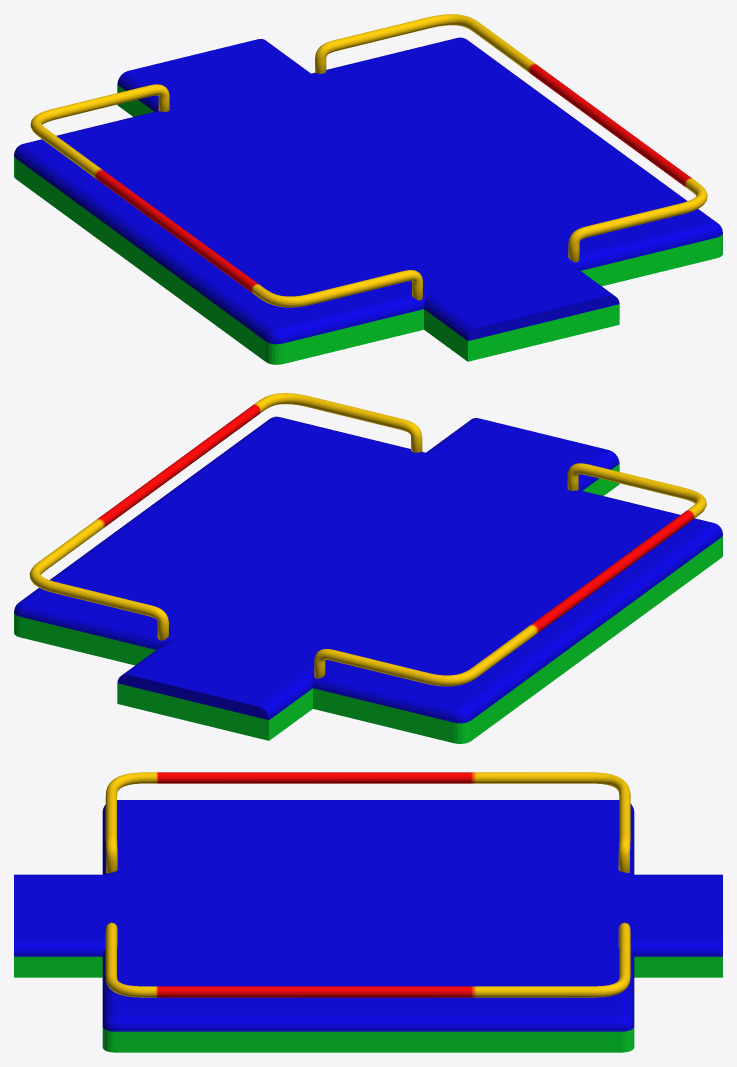
3 renders of one model, top to bottom at view 1: azimuth 30°, elevation 25°; view 2: azimuth 150°, elevation 25°; view 3: azimuth 270°, elevation 25°, orthographic.
Parts seen in each view (by area): view 1: plank5, pipe12, pipe11; view 2: plank5, pipe12, pipe11; view 3: plank5, pipe11, pipe12.
Boxes of the visible parts, x1,y1,x2,y2 form: plank5: (14,37,722,364); pipe12: (315,14,707,262); pipe11: (30,84,422,307); plank5: (14,416,722,743); pipe12: (29,393,422,640); pipe11: (314,463,706,686); plank5: (14,800,722,1052); pipe11: (105,772,630,873); pipe12: (105,922,630,997).
Bounding box in the file's own units: 1500 × 189 × 2000.
